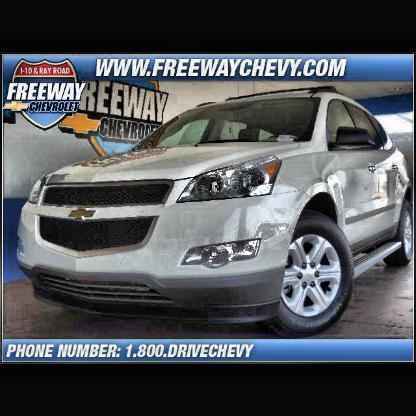Chevrolet Traverse SUV 2012: (15, 86, 416, 342)
